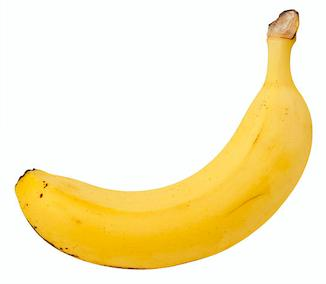Banana Ripe: (7, 16, 313, 272)
